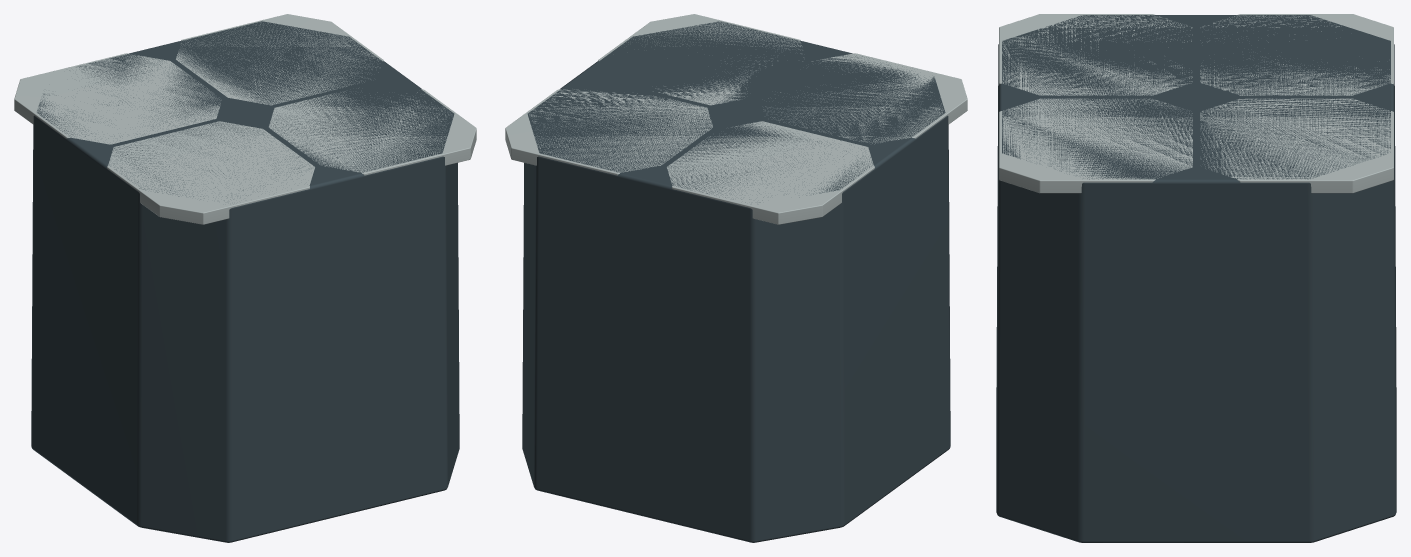
Rendered from Pad.fbx.
3 renders of one model, left to right at view 1: azimuth 30°, elevation 25°; view 2: azimuth 150°, elevation 25°; view 3: azimuth 270°, elevation 25°, orthographic. The views are drawn at different scales.
Visible parts, largest first — view 1: PadFrame, DeckTile.008, DeckTile.009, DeckTile.010, DeckTile.011; view 2: PadFrame, DeckTile.009, DeckTile.011, DeckTile.008, DeckTile.010; view 3: PadFrame, DeckTile.011, DeckTile.010, DeckTile.008, DeckTile.009.
Part boxes in pixels (x1,y1,x2,y2): PadFrame: (31, 21, 459, 542); DeckTile.008: (107, 121, 314, 224); DeckTile.009: (14, 53, 221, 144); DeckTile.010: (269, 88, 476, 175); DeckTile.011: (176, 14, 383, 105); PadFrame: (522, 21, 950, 542); DeckTile.009: (667, 121, 874, 224); DeckTile.011: (505, 89, 712, 175); DeckTile.008: (763, 53, 967, 144); DeckTile.010: (598, 14, 803, 105); PadFrame: (996, 15, 1396, 542); DeckTile.011: (1200, 98, 1393, 193); DeckTile.010: (999, 98, 1192, 193); DeckTile.008: (999, 14, 1192, 95); DeckTile.009: (1200, 14, 1393, 95).
Size of the model in its own units: 0.9999 by 1 by 0.9999.
